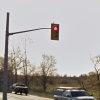Traffic light: (43, 15, 72, 52)
